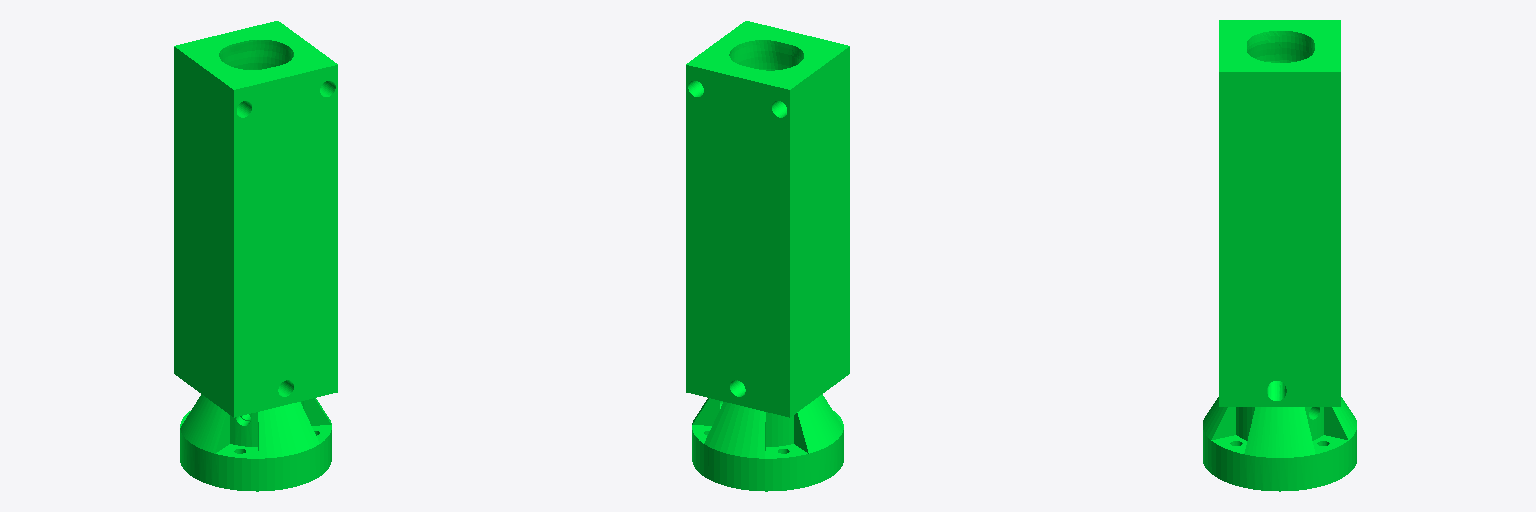
The robot description file, URDF, robot "netft_probe":
<?xml version="1.0"?>
<!--
  ATI NetFT Sensor + Vera P42V Probe Holder for Drake
  Dimensions from: ur_admittance_controller/urdf/ur_ft_sensor.xacro
-->
<robot name="netft_probe">
  <!-- Properties (from xacro) -->
  <!-- sensor_dip: 0.003m, sensor_length: 0.04906m -->
  <!-- p42v_collision_height: 0.233668m (wrist_height - p42v_adapter_intrusion + p42v_cable_end + p42v_trans_len) -->

  <!-- NetFT Base (attaches to UR5e flange) -->
  <link name="netft_link">
    <visual>
      <origin xyz="0 0 0.003" rpy="0 0 0"/>
      <geometry>
        <mesh filename="package://ur5e_description/meshes/end_effector/ati_netft_gamma.obj"/>
      </geometry>
      <material name="grey">
        <color rgba="0.5 0.5 0.5 1"/>
      </material>
    </visual>
    <collision>
      <origin xyz="0 0 0.02753" rpy="0 0 0"/>
      <geometry>
        <cylinder length="0.04906" radius="0.045"/>
      </geometry>
    </collision>
    <inertial>
      <mass value="0.5"/>
      <origin xyz="0 0 0.02753" rpy="0 0 0"/>
      <inertia ixx="0.001" ixy="0" ixz="0" iyy="0.001" iyz="0" izz="0.001"/>
    </inertial>
  </link>

  <!-- P42V Probe Holder -->
  <joint name="p42v_joint" type="fixed">
    <origin xyz="0 0 0.05206" rpy="0 0 0"/>
    <parent link="netft_link"/>
    <child link="p42v_link"/>
  </joint>
  <link name="p42v_link">
    <visual>
      <origin xyz="0 0 0" rpy="0 0 0"/>
      <geometry>
        <mesh filename="package://ur5e_description/meshes/end_effector/vera_p42v_adapter.obj"/>
      </geometry>
      <material name="green">
        <color rgba="0.0 1.0 0.3 1"/>
      </material>
    </visual>
    <collision>
      <origin xyz="0 0 0.0925" rpy="0 0 0"/>
      <geometry>
        <box size="0.063 0.063 0.185"/>
      </geometry>
    </collision>
    <inertial>
      <mass value="1.0"/>
      <origin xyz="0 0 0.116834" rpy="0 0 0"/>
      <inertia ixx="0.002" ixy="0" ixz="0" iyy="0.002" iyz="0" izz="0.001"/>
    </inertial>
  </link>

  <!-- TCP Frame (Tool Center Point) -->
  <joint name="tcp_joint" type="fixed">
    <origin xyz="0 0 0.185" rpy="0 0 0"/>
    <parent link="p42v_link"/>
    <child link="tcp"/>
  </joint>
  <link name="tcp"/>

</robot>

--- Facts derived from the render (not from the file) ---
Views: 3 orthographic renders of the robot side by side, from view 1: azimuth 30°, elevation 25°; view 2: azimuth 150°, elevation 25°; view 3: azimuth 270°, elevation 25°.
Model netft_probe with 3 links and 2 joints (2 fixed), rooted at netft_link, posed every joint at zero.
Links seen in each view (by area): view 1: p42v_link; view 2: p42v_link; view 3: p42v_link.
Link boxes in pixels (x1,y1,x2,y2): p42v_link: [174, 21, 337, 491]; p42v_link: [686, 21, 849, 491]; p42v_link: [1203, 20, 1356, 491].
Size in the robot's own frame: 0.063 by 0.0629 by 0.185 metres.
Meshes: 2 distinct files referenced, 1 mesh visuals loaded (1 OBJ); not drawn: 1 (reference not matched to a file when rendering).
